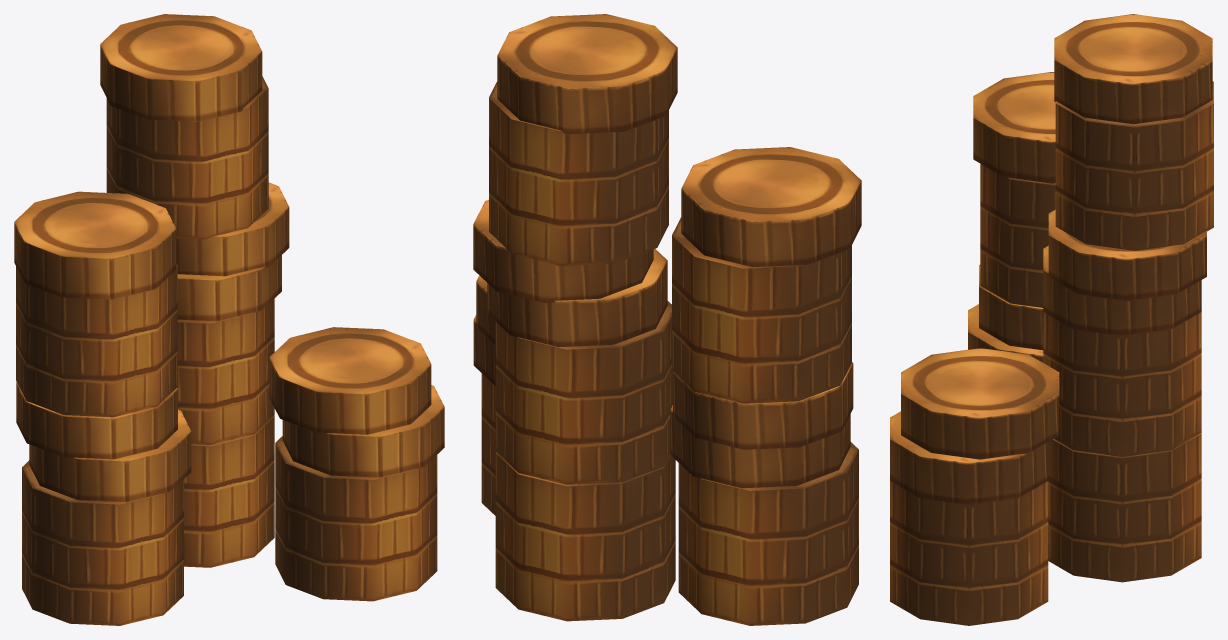
File: 70_coin3.FBX
3 views of the same model, side by side, from view 1: azimuth 30°, elevation 25°; view 2: azimuth 150°, elevation 25°; view 3: azimuth 270°, elevation 25° (orthographic). The views are drawn at different scales.
Parts seen in each view (by area): view 1: Object029; view 2: Object029; view 3: Object029.
Boxes of the visible parts, box(x1,y1,x2,y2) form: Object029: box(14, 14, 444, 625); Object029: box(473, 14, 861, 625); Object029: box(890, 14, 1213, 625).
Size of the model in its own units: 47.53 by 59.68 by 35.42.
